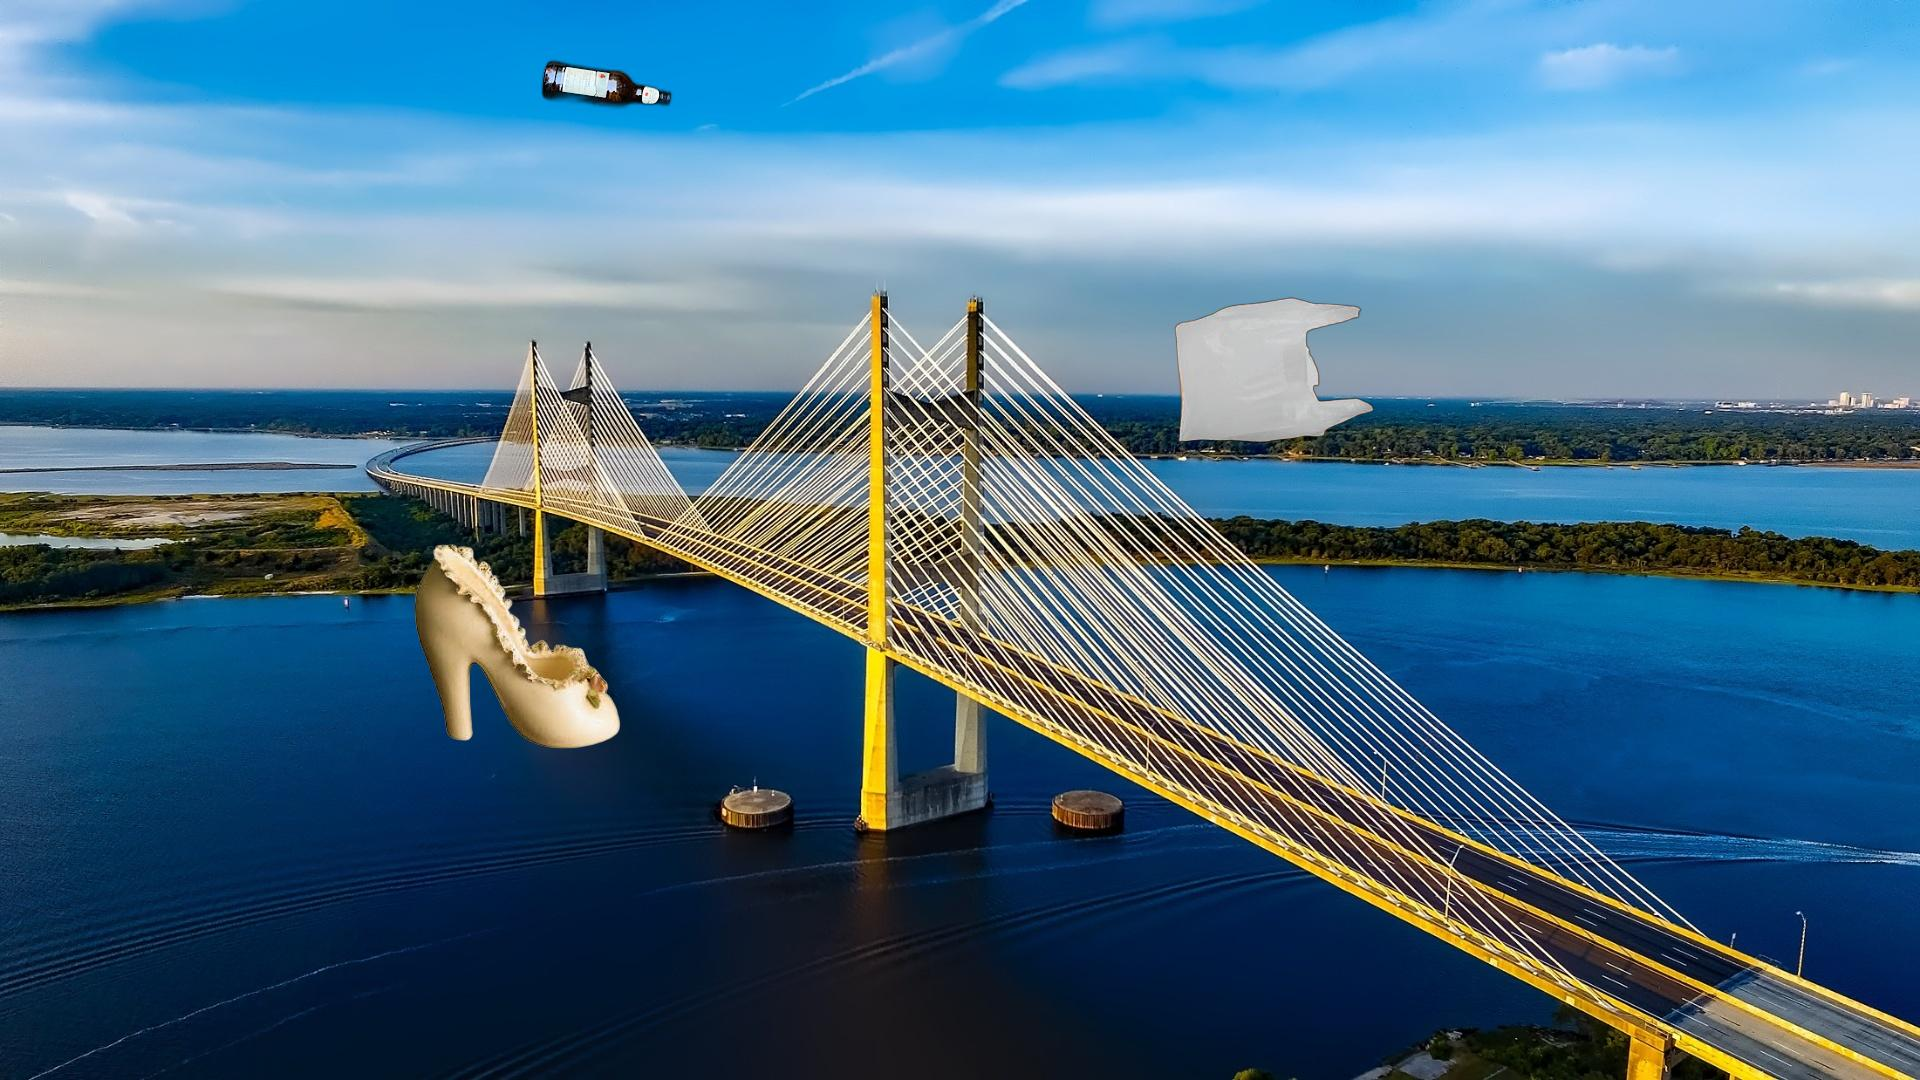glass: (357, 55, 676, 450)
plastic-bag: (1174, 294, 1377, 444)
shoes: (411, 541, 625, 762)
trashbox-cardboard: (1917, 742, 1920, 1080)
